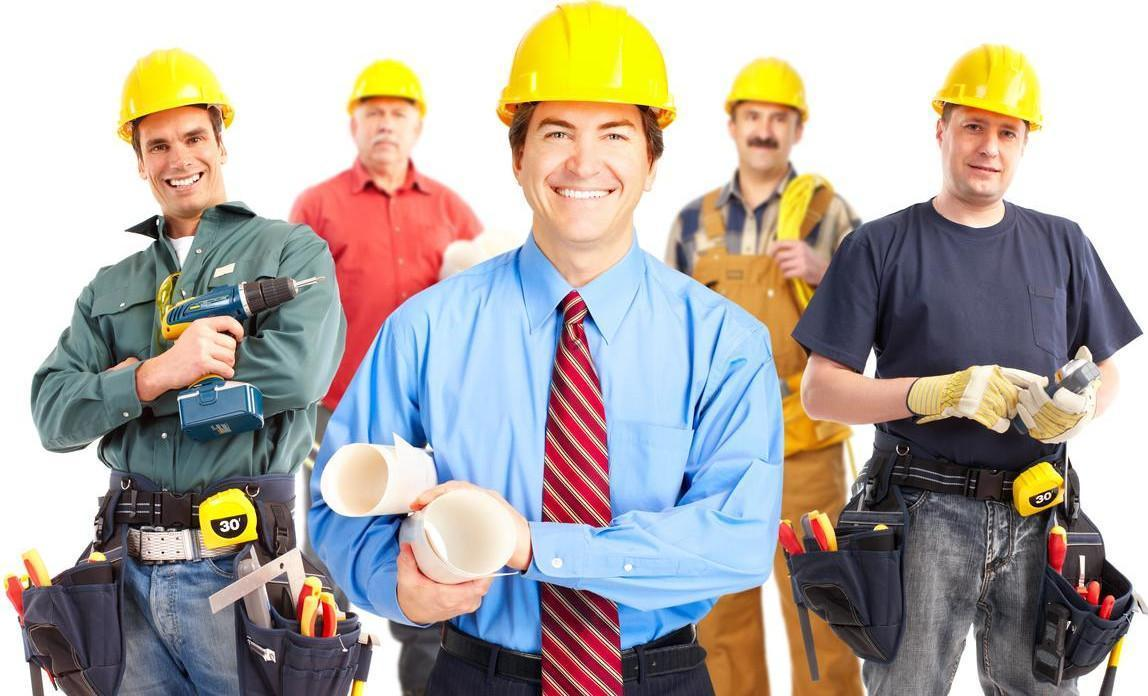gloves: (1009, 351, 1139, 433), (921, 355, 1018, 435)
helmet: (470, 3, 690, 128), (931, 39, 1078, 133), (106, 32, 235, 138), (713, 51, 844, 119), (343, 48, 449, 120)
no-gloves: (373, 549, 507, 641), (146, 311, 253, 384), (770, 235, 832, 301)
no-vest: (423, 275, 707, 640), (104, 251, 303, 502), (694, 175, 844, 472), (322, 171, 455, 374)
person: (320, 18, 786, 696), (855, 67, 1135, 696), (77, 79, 358, 696), (688, 51, 848, 696), (873, 232, 1099, 524), (301, 47, 471, 359)
